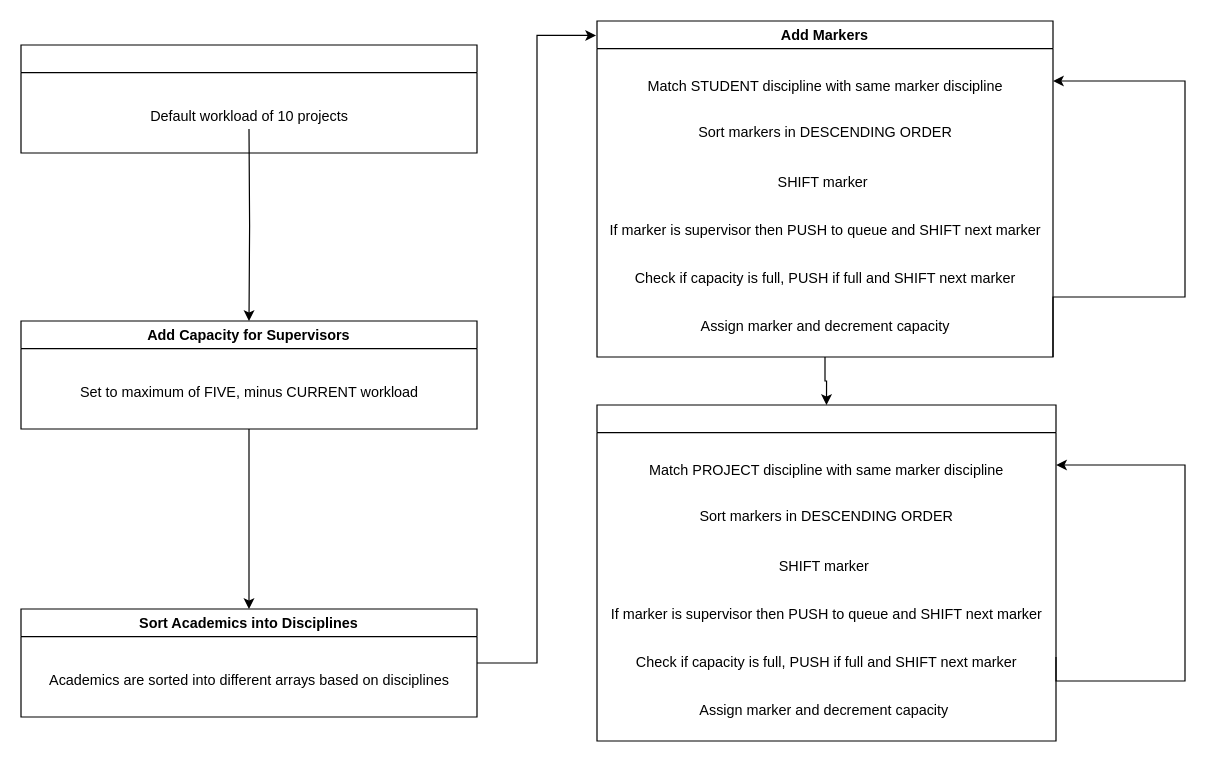
Some shapes in this 1216 by 762 pixel diagram are drawn without their labels. The box of each missing label's shape, as (x1, y1, x2, y2) in pixels:
Add Capacity for Academics: (20, 44, 477, 153)
Edge Cases (For ENGG and Looser Discipline Matching: (596, 404, 1056, 741)
